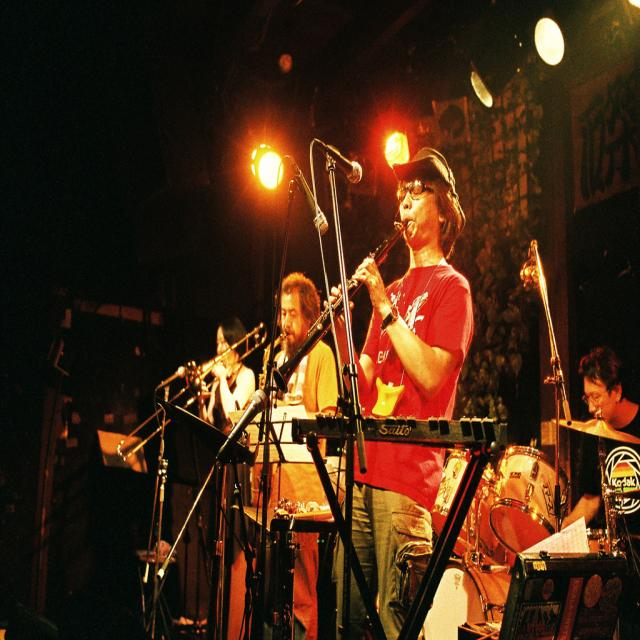clarinet: (274, 217, 410, 393)
drums: (431, 441, 576, 640)
